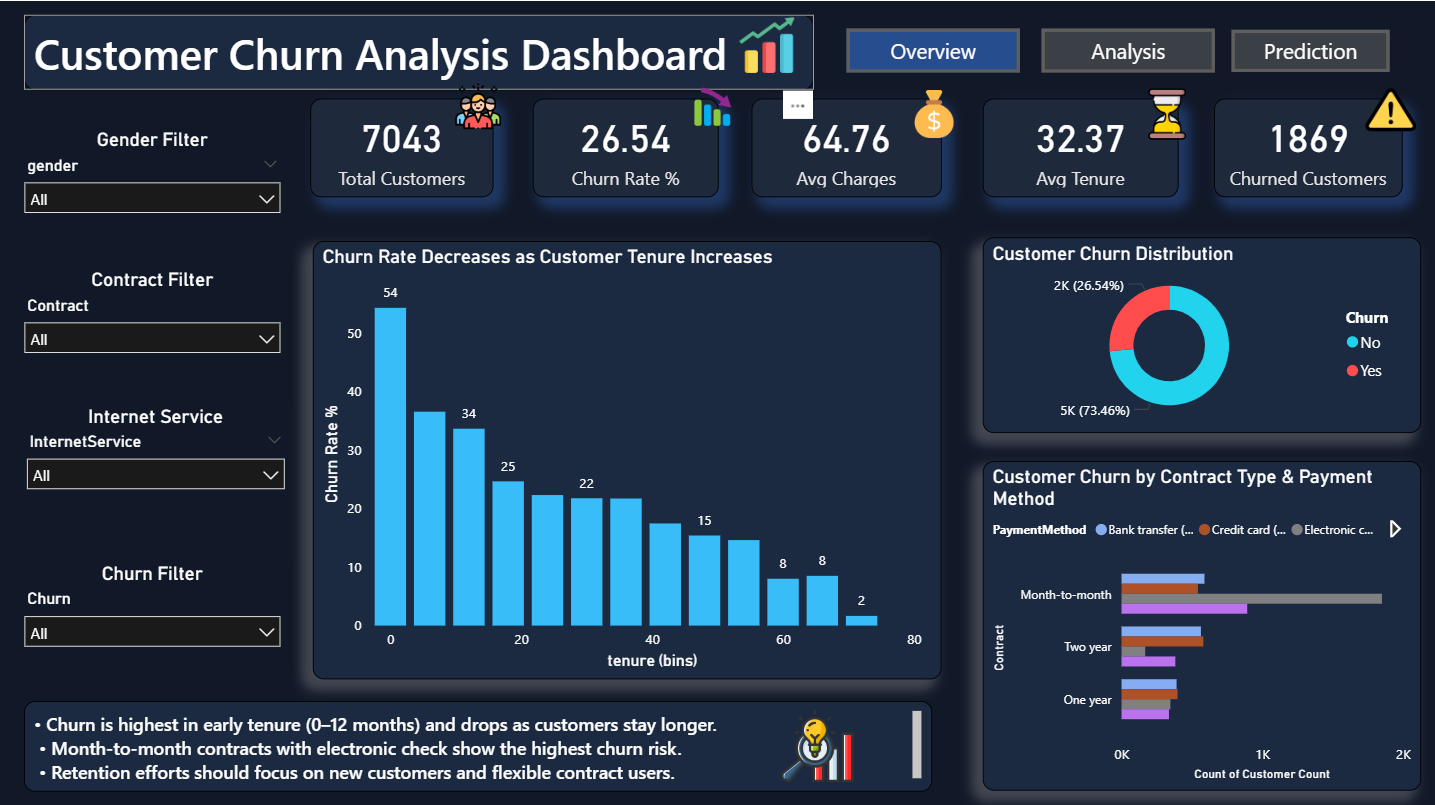

What the dashboard file says about the page in this screenshot:
{"tool":"powerbi","page":{"name":"Overview","canvas":[1280,720],"ordinal":1},"visuals":[{"type":"actionButton","box":[754.2,24.2,154.5,39.4],"z":0},{"type":"actionButton","box":[1098,25.7,140.8,37.9],"z":1000},{"type":"actionButton","box":[928.4,24.2,154.5,39.4],"z":2000},{"type":"card","fields":{"Values":["Churn.Total Customers"]},"box":[277.3,87.1,163.2,88.3],"z":3000},{"type":"card","fields":{"Values":["Churn.Churn Rate %"]},"box":[474.8,87.1,165.6,88.3],"z":4000},{"type":"card","fields":{"Values":["Churn.Avg Charges"]},"box":[669.9,87.1,169.3,88.3],"z":5000},{"type":"card","fields":{"Values":["Churn.Avg Tenure"]},"box":[876.1,87.1,174.2,88.3],"z":6000},{"type":"slicer","title":"Internet Service","fields":{"Values":["Churn.InternetService"]},"box":[14.6,359.8,250.1,130.2],"z":7000},{"type":"clusteredBarChart","title":"Customer Churn by Contract Type & Payment Method","fields":{"Category":["Churn.Contract"],"Series":["Churn.PaymentMethod"],"Y":["CountNonNull(Churn.Customer Count)"]},"box":[876.1,409.5,390.5,294],"z":8000},{"type":"donutChart","title":"Customer Churn Distribution","fields":{"Category":["Churn.Churn"],"Y":["Churn.Total Customers"]},"box":[876.1,210.6,390.5,174],"z":9000},{"type":"card","fields":{"Values":["Churn.Churned Customers"]},"box":[1082.2,87.1,168.1,88.3],"z":10000},{"type":"textbox","box":[21.9,11.7,703.5,67.3],"z":11000},{"type":"columnChart","title":"Churn Rate Decreases as Customer Tenure Increases","fields":{"Category":["Churn.tenure (bins)"],"Y":["Churn.Churn Rate %"]},"box":[279.3,213.5,560.2,390.5],"z":12000},{"type":"slicer","title":"Contract Filter","fields":{"Values":["Churn.Contract"]},"box":[11.7,238.4,248.6,121.4],"z":13000},{"type":"slicer","title":"Gender Filter","fields":{"Values":["Churn.gender"]},"box":[11.7,114.1,248.6,124.3],"z":14000},{"type":"slicer","title":"Churn Filter","fields":{"Values":["Churn.Churn"]},"box":[11.7,500.2,248.6,128.7],"z":14001},{"type":"textbox","box":[21.9,623,808.8,80.4],"z":14002},{"type":"image","box":[656.7,628.9,143.3,68.7],"z":14003},{"type":"image","box":[628.9,14.6,109.7,49.7],"z":14004},{"type":"image","box":[406.6,64.4,41,58.5],"z":14005},{"type":"image","box":[614.3,68.7,42.4,49.7],"z":14006},{"type":"image","box":[800,77.5,64.4,45.3],"z":14007},{"type":"image","box":[996,77.5,87.8,45.3],"z":14008},{"type":"image","box":[1206.6,71.7,65.8,51.2],"z":14009}]}

Visuals, with their boxes in screenshot pixels (x1, y1, x2, y2), scaled from the page's 1280x720 canvas onto the 1435x805 screenshot:
actionButton: [x1=846, y1=27, x2=1019, y2=71]
actionButton: [x1=1231, y1=29, x2=1389, y2=71]
actionButton: [x1=1041, y1=27, x2=1214, y2=71]
card - Churn.Total Customers: [x1=311, y1=97, x2=494, y2=196]
card - Churn.Churn Rate %: [x1=532, y1=97, x2=718, y2=196]
card - Churn.Avg Charges: [x1=751, y1=97, x2=941, y2=196]
card - Churn.Avg Tenure: [x1=982, y1=97, x2=1177, y2=196]
"Internet Service" slicer: [x1=16, y1=402, x2=297, y2=548]
"Customer Churn by Contract Type & Payment Method" clusteredBarChart: [x1=982, y1=458, x2=1420, y2=787]
"Customer Churn Distribution" donutChart: [x1=982, y1=235, x2=1420, y2=430]
card - Churn.Churned Customers: [x1=1213, y1=97, x2=1402, y2=196]
textbox: [x1=25, y1=13, x2=813, y2=88]
"Churn Rate Decreases as Customer Tenure Increases" columnChart: [x1=313, y1=239, x2=941, y2=675]
"Contract Filter" slicer: [x1=13, y1=267, x2=292, y2=402]
"Gender Filter" slicer: [x1=13, y1=128, x2=292, y2=267]
"Churn Filter" slicer: [x1=13, y1=559, x2=292, y2=703]
textbox: [x1=25, y1=697, x2=931, y2=786]
image: [x1=736, y1=703, x2=897, y2=780]
image: [x1=705, y1=16, x2=828, y2=72]
image: [x1=456, y1=72, x2=502, y2=137]
image: [x1=689, y1=77, x2=736, y2=132]
image: [x1=897, y1=87, x2=969, y2=137]
image: [x1=1117, y1=87, x2=1215, y2=137]
image: [x1=1353, y1=80, x2=1426, y2=137]
